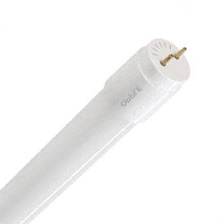light_bulb: (0, 34, 195, 223)
